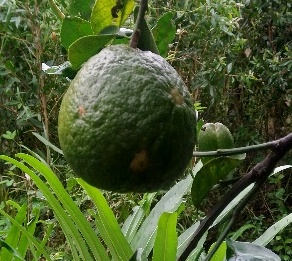Cam: (58, 42, 200, 195)
